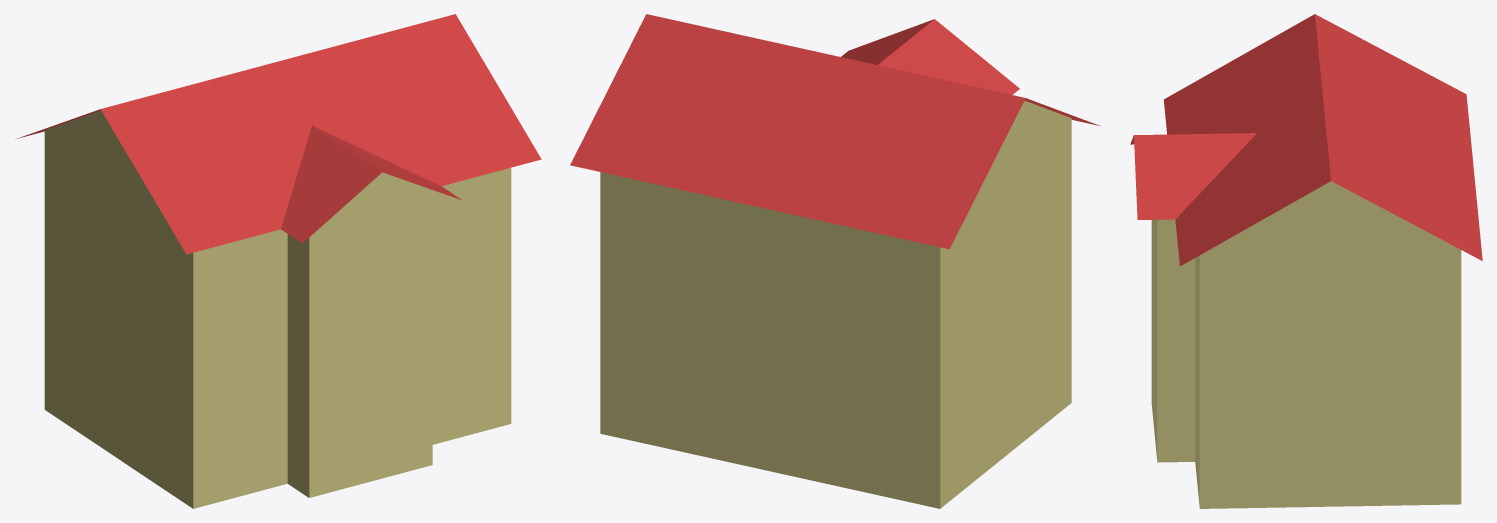
3 views of the same model, side by side, from view 1: azimuth 30°, elevation 25°; view 2: azimuth 150°, elevation 25°; view 3: azimuth 270°, elevation 25° (orthographic). The views are drawn at different scales.
Bounding box in the file's own units: 14.79 × 12.78 × 13.38.
